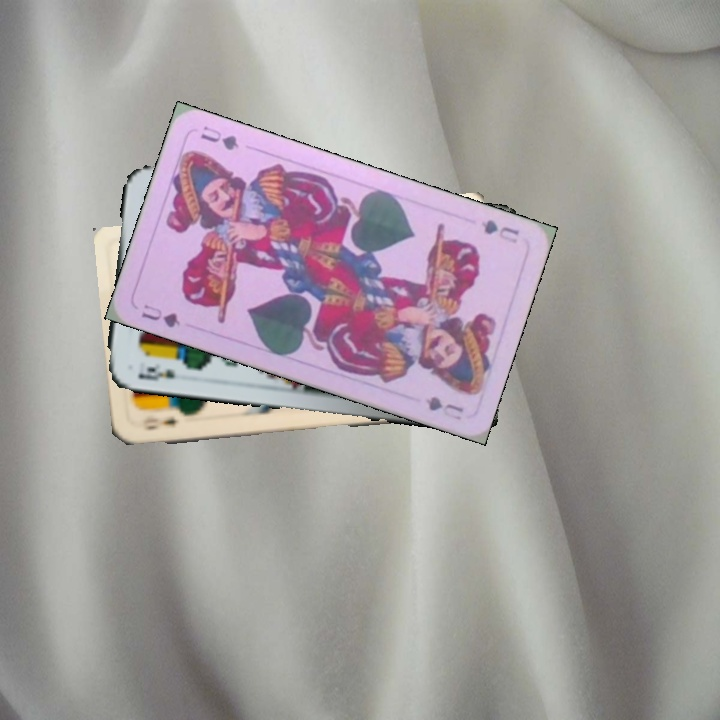EK: (134, 360, 178, 384)
EO: (138, 413, 179, 433)
GU: (137, 300, 183, 331), (476, 215, 522, 246)
